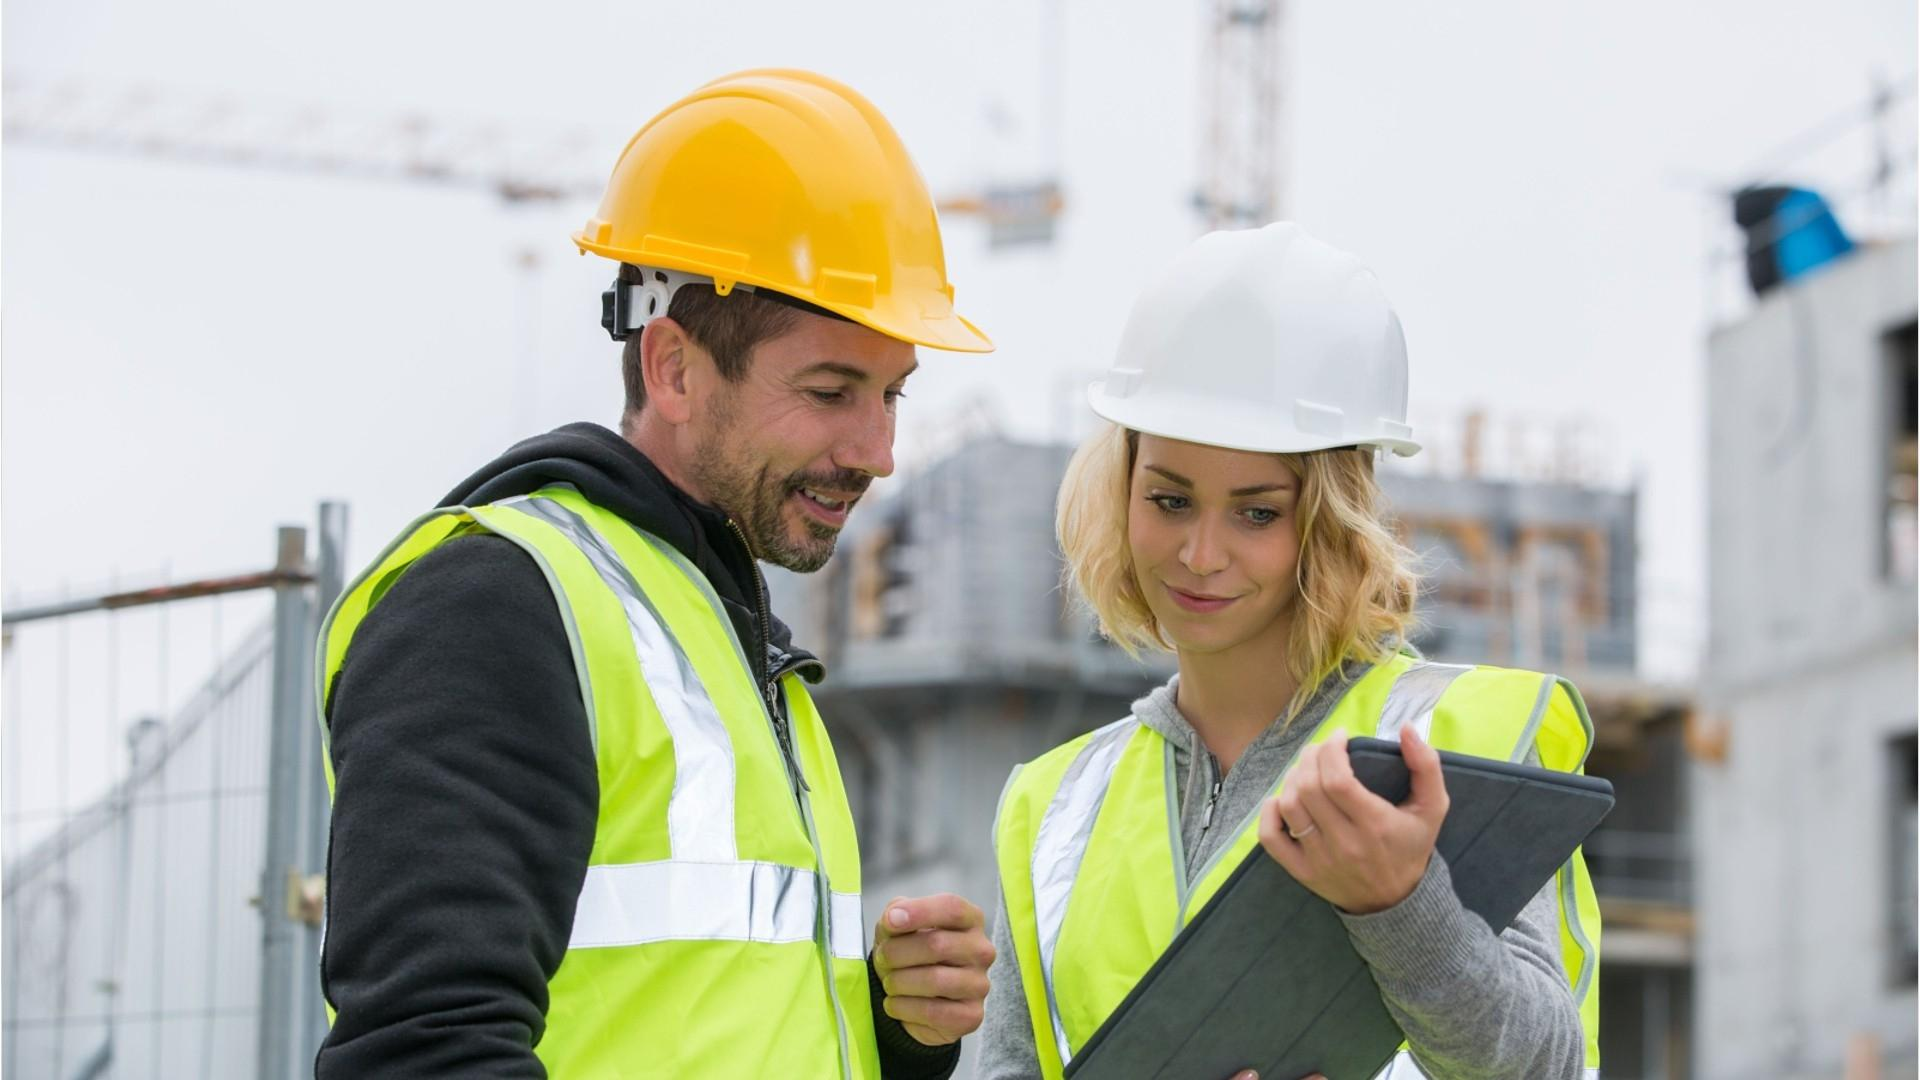helmet: (571, 71, 1013, 360), (1076, 219, 1437, 460)
wear: (307, 526, 893, 1080), (988, 676, 1588, 1080)
